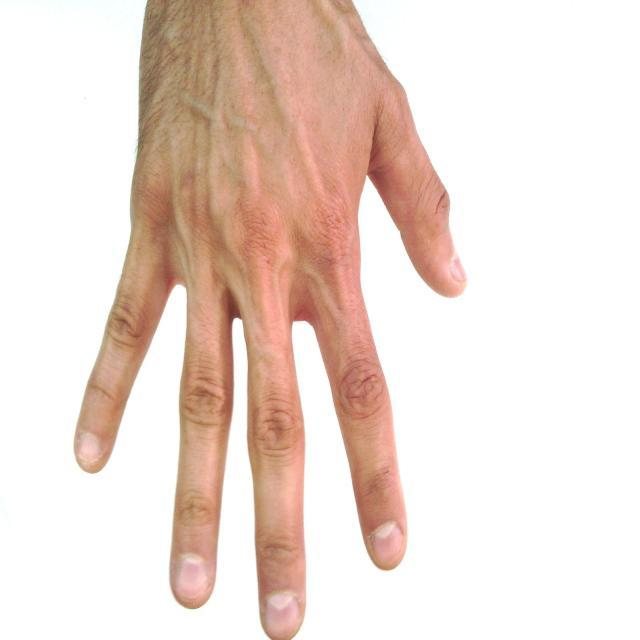Fingernail: (266, 594, 299, 639), (178, 557, 207, 598), (373, 523, 402, 563), (79, 435, 101, 462), (452, 258, 465, 282)
